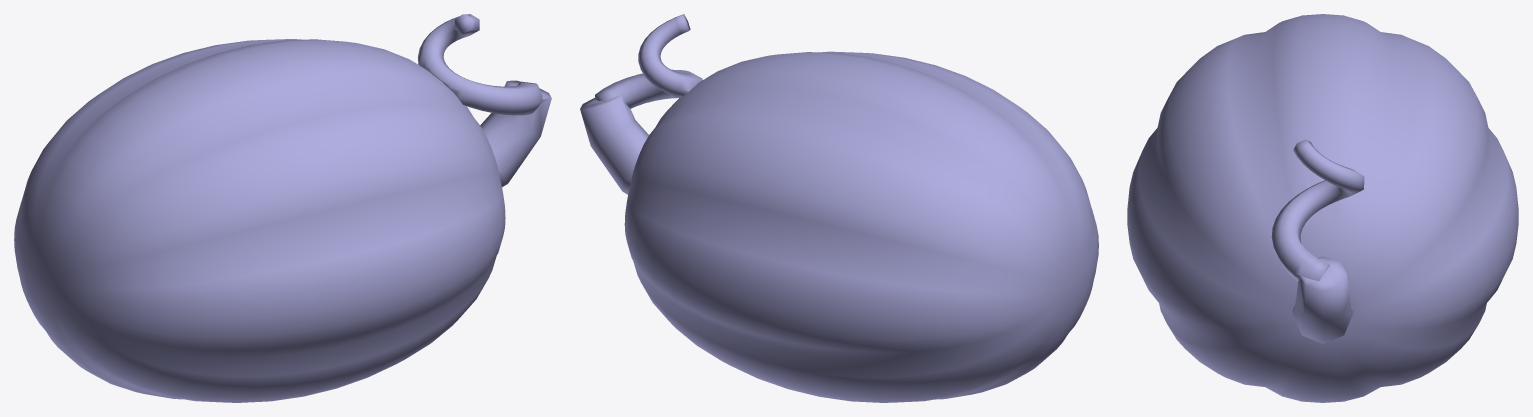
Rendered from Ghostly_Legendary_Fruit.glb.
The picture shows the model from 3 angles, left to right: view 1: azimuth 30°, elevation 25°; view 2: azimuth 150°, elevation 25°; view 3: azimuth 270°, elevation 25°; orthographic projection. The views are drawn at different scales.
Parts seen in each view (by area): view 1: Ghost_Melon; view 2: Ghost_Melon; view 3: Ghost_Melon.
Part boxes in pixels (x1,y1,x2,y2): Ghost_Melon: (14, 14, 551, 402); Ghost_Melon: (580, 14, 1098, 402); Ghost_Melon: (1127, 14, 1518, 402).
Size of the model in its own units: 0.81 by 0.4967 by 0.5522.
